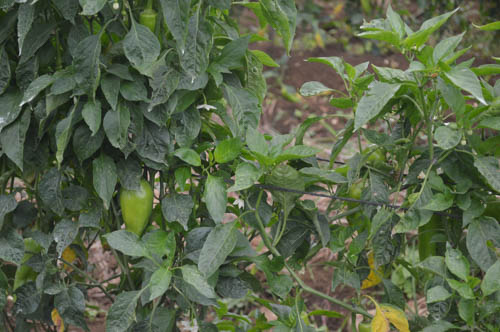ChiliPepper: (121, 182, 153, 244)
